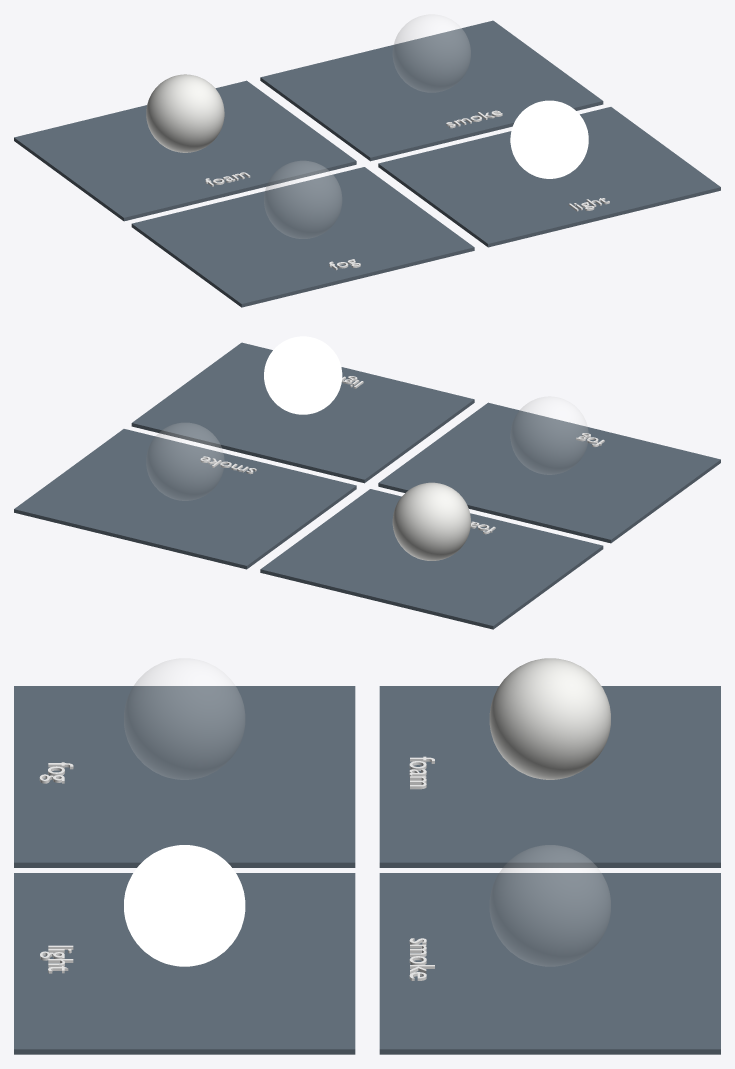
Rendered from mat_presets_media.glb.
3 renders of one model, top to bottom at view 1: azimuth 30°, elevation 25°; view 2: azimuth 150°, elevation 25°; view 3: azimuth 270°, elevation 25°, orthographic. The views are drawn at different scales.
Parts seen in each view (by area): view 1: tile, foam, light, fog, smoke, label; view 2: tile, light, foam, fog, smoke, label; view 3: tile, light, foam, fog, smoke, label.
Part boxes in pixels (<box>): tile: <box>14,20,720,307</box>; foam: <box>146,74,224,152</box>; light: <box>510,100,588,178</box>; fog: <box>264,161,341,238</box>; smoke: <box>393,14,470,92</box>; label: <box>205,110,609,270</box>; tile: <box>14,342,720,629</box>; light: <box>264,336,342,414</box>; foam: <box>392,482,470,560</box>; fog: <box>510,396,588,474</box>; smoke: <box>146,423,224,500</box>; label: <box>200,376,604,534</box>; tile: <box>14,686,720,1054</box>; light: <box>124,845,245,966</box>; foam: <box>489,658,610,779</box>; fog: <box>124,658,244,779</box>; smoke: <box>490,845,610,966</box>; label: <box>39,756,434,980</box>.
Bounding box in the file's own units: 0.282 × 0.042 × 0.232.
